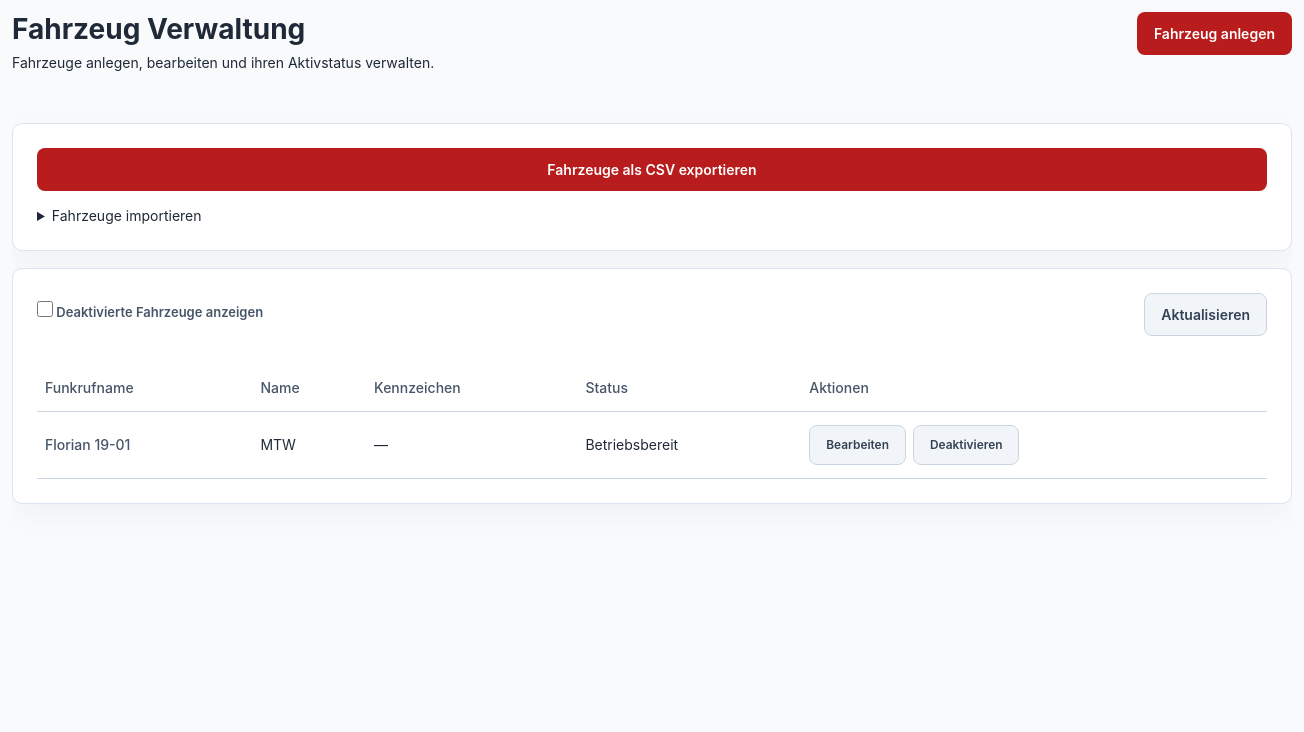
deactivates a vehicle and lets its officer show and reactivate it using the actions column
Click the button with aria-label "Florian 19-01 deaktivieren": coordinates (966, 445) x1=913 y1=425 x2=1019 y2=465
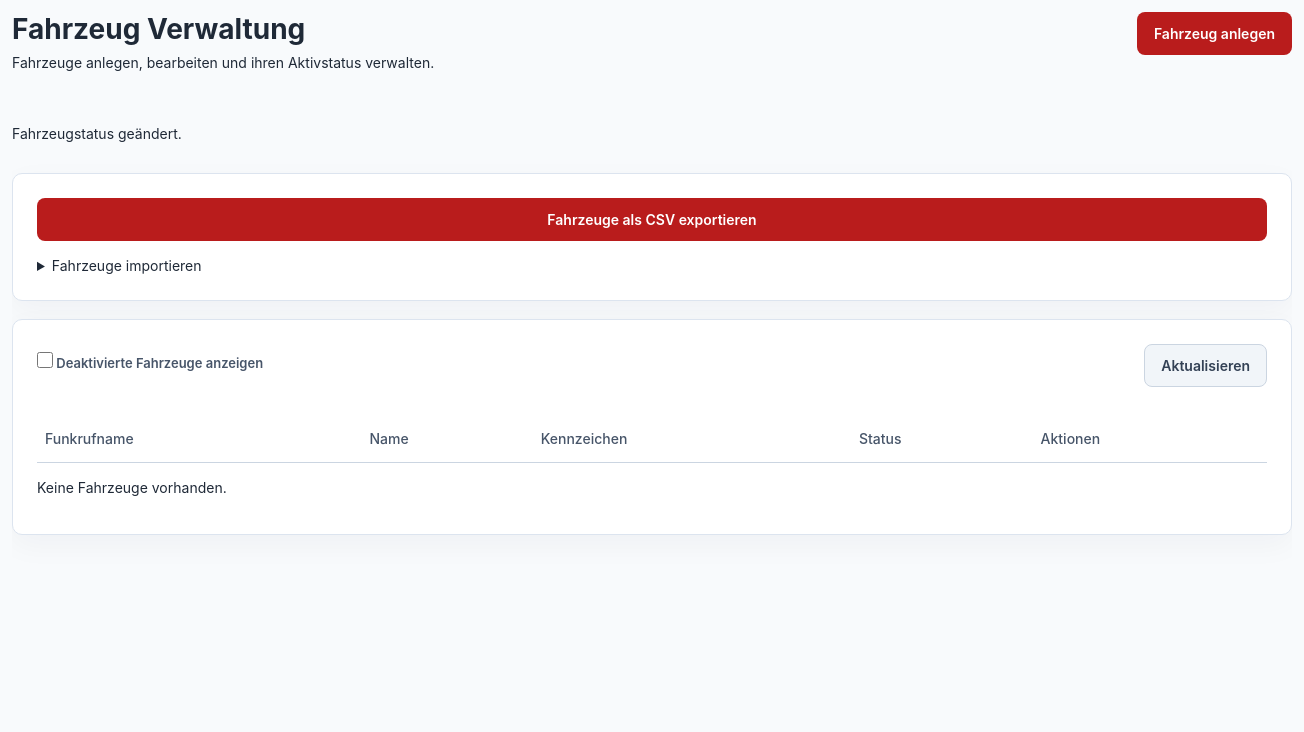
Expected: the text "Keine Fahrzeuge vorhanden." is shown, x1=37 y1=478 x2=227 y2=496
Click the checkbox labelled "Deaktivierte Fahrzeuge anzeigen": coordinates (45, 360) x1=37 y1=352 x2=53 y2=368
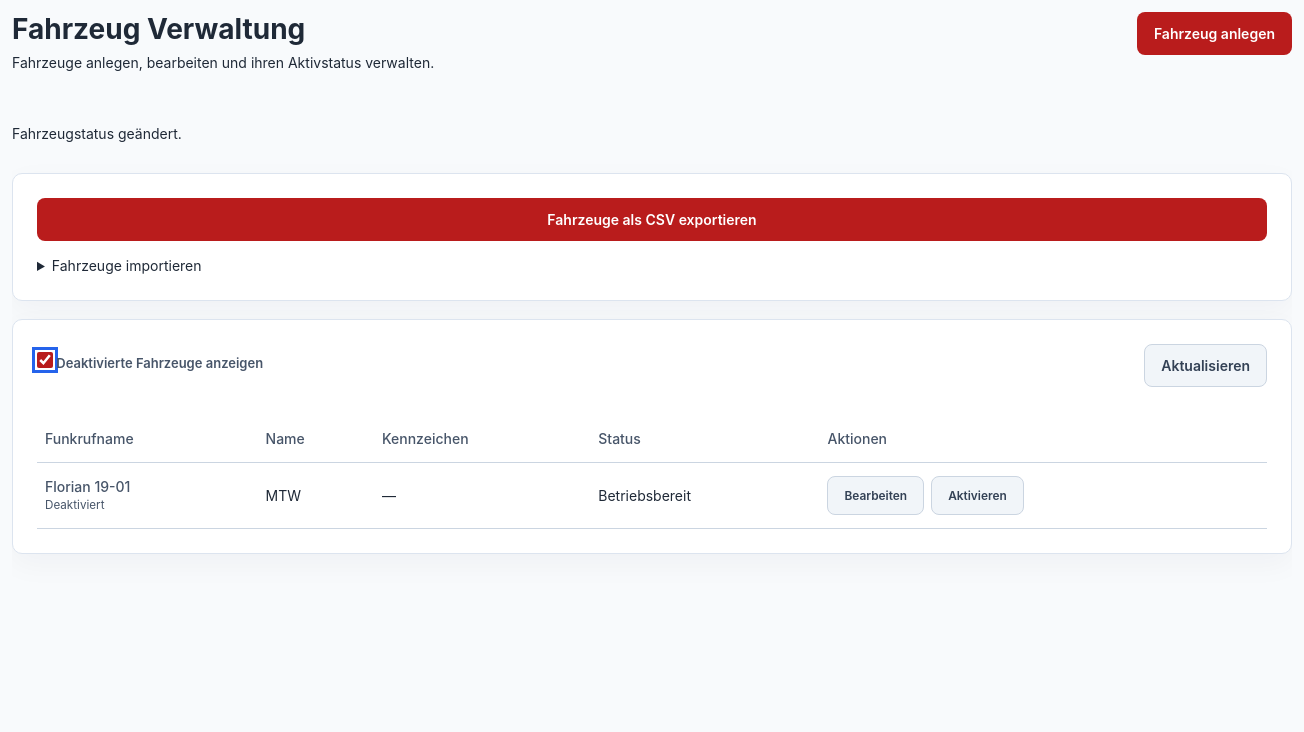
Expected: the button with aria-label "Florian 19-01 aktivieren" is enabled
Click the button with aria-label "Florian 19-01 aktivieren": coordinates (977, 495) x1=931 y1=476 x2=1024 y2=515
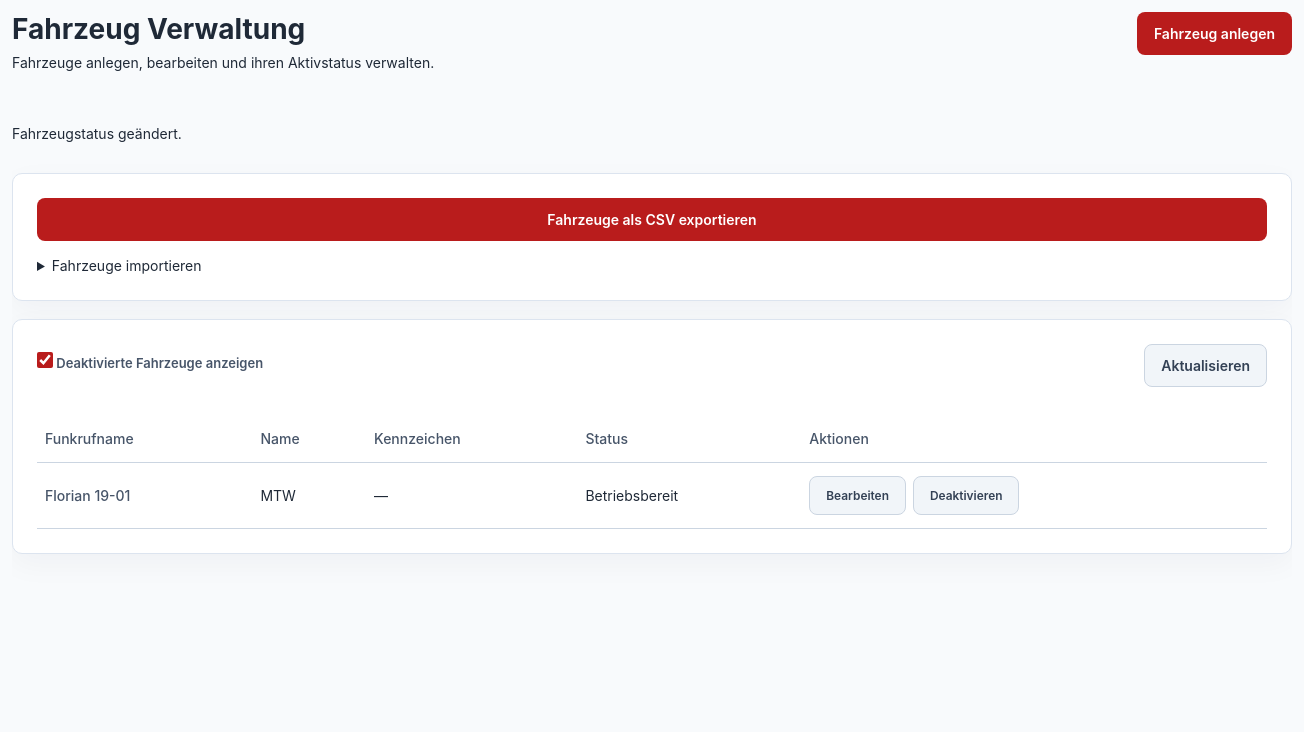
Expected: the button with aria-label "Florian 19-01 deaktivieren" is shown, x1=913 y1=476 x2=1019 y2=515
